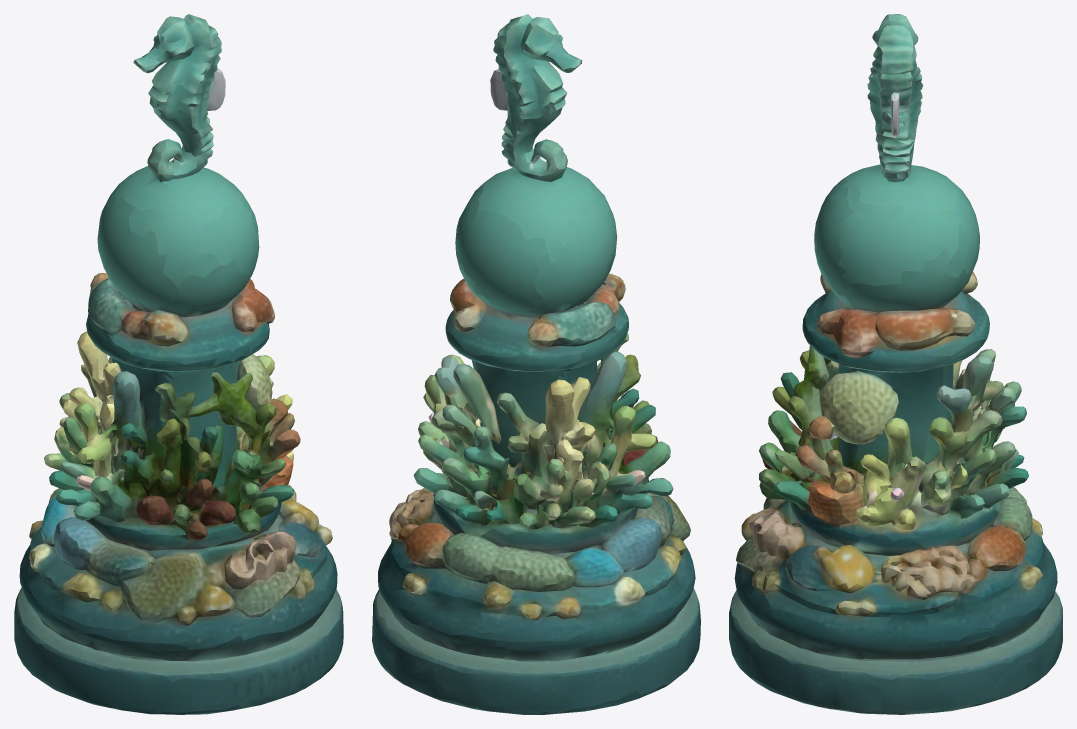
3 views of the same model, side by side, from view 1: azimuth 30°, elevation 25°; view 2: azimuth 150°, elevation 25°; view 3: azimuth 270°, elevation 25° (orthographic).
Visible parts, largest first — view 1: world; view 2: world; view 3: world.
Boxes of the visible parts, x1,y1,x2,y2 form: world: (14,14,343,714); world: (372,14,700,714); world: (729,14,1062,714).
Bounding box in the file's own units: 0.0847 × 0.18 × 0.086.
Materials: 1 (1 with a texture image).
